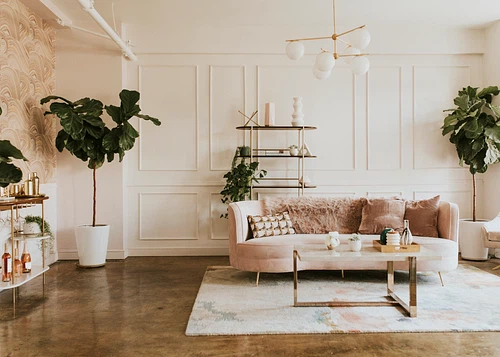large plant: (43, 87, 159, 270), (441, 84, 500, 261)
sofa: (226, 193, 459, 288)
table: (290, 244, 423, 319)
